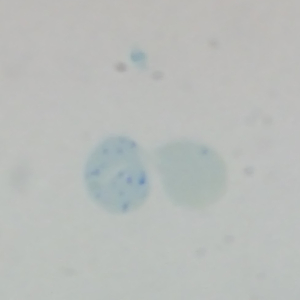punctate reticulocyte: (151, 138, 230, 214), (81, 133, 153, 215)
